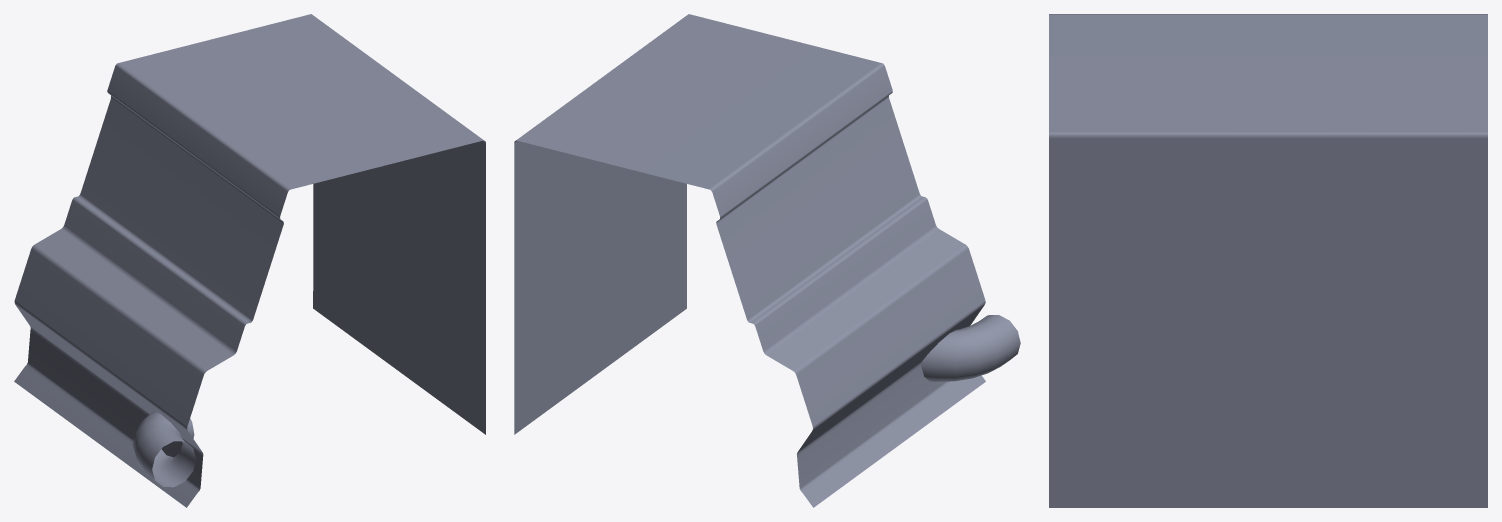
File: Wall4TEST.fbx
3 views of the same model, side by side, from view 1: azimuth 30°, elevation 25°; view 2: azimuth 150°, elevation 25°; view 3: azimuth 270°, elevation 25° (orthographic). The views are drawn at different scales.
Visible parts, largest first — view 1: Wall4; view 2: Wall4; view 3: Wall4.
Part boxes in pixels (box(x1,y1,x2,y2)): Wall4: box(14, 14, 485, 507); Wall4: box(514, 14, 1020, 507); Wall4: box(1049, 14, 1487, 507).
Size of the model in its own units: 1.12 by 0.9425 by 1.
